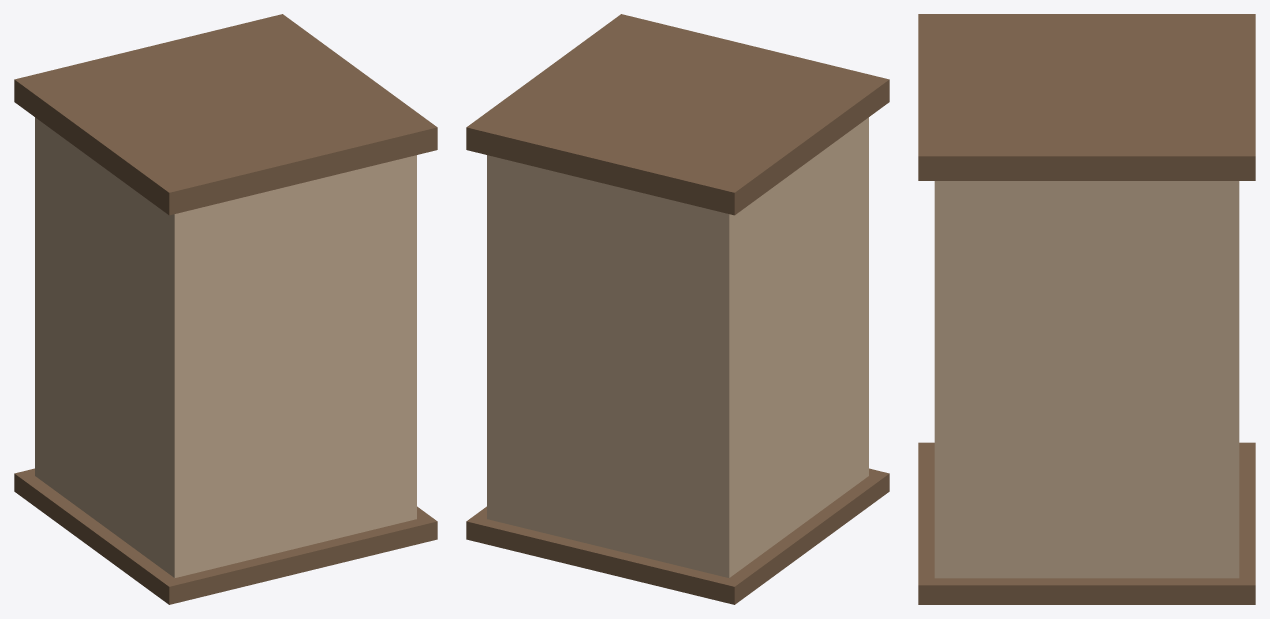
The model's file is Plinth_Teak.fbx.
3 views of the same model, side by side, from view 1: azimuth 30°, elevation 25°; view 2: azimuth 150°, elevation 25°; view 3: azimuth 270°, elevation 25° (orthographic). The views are drawn at different scales.
Visible parts, largest first — view 1: Plinth_Teak; view 2: Plinth_Teak; view 3: Plinth_Teak.
Part boxes in pixels (bbox=[...]): Plinth_Teak: bbox=[14, 14, 437, 604]; Plinth_Teak: bbox=[466, 14, 889, 604]; Plinth_Teak: bbox=[918, 14, 1255, 604].
Bounding box in the file's own units: 0.62 × 0.91 × 0.62.
